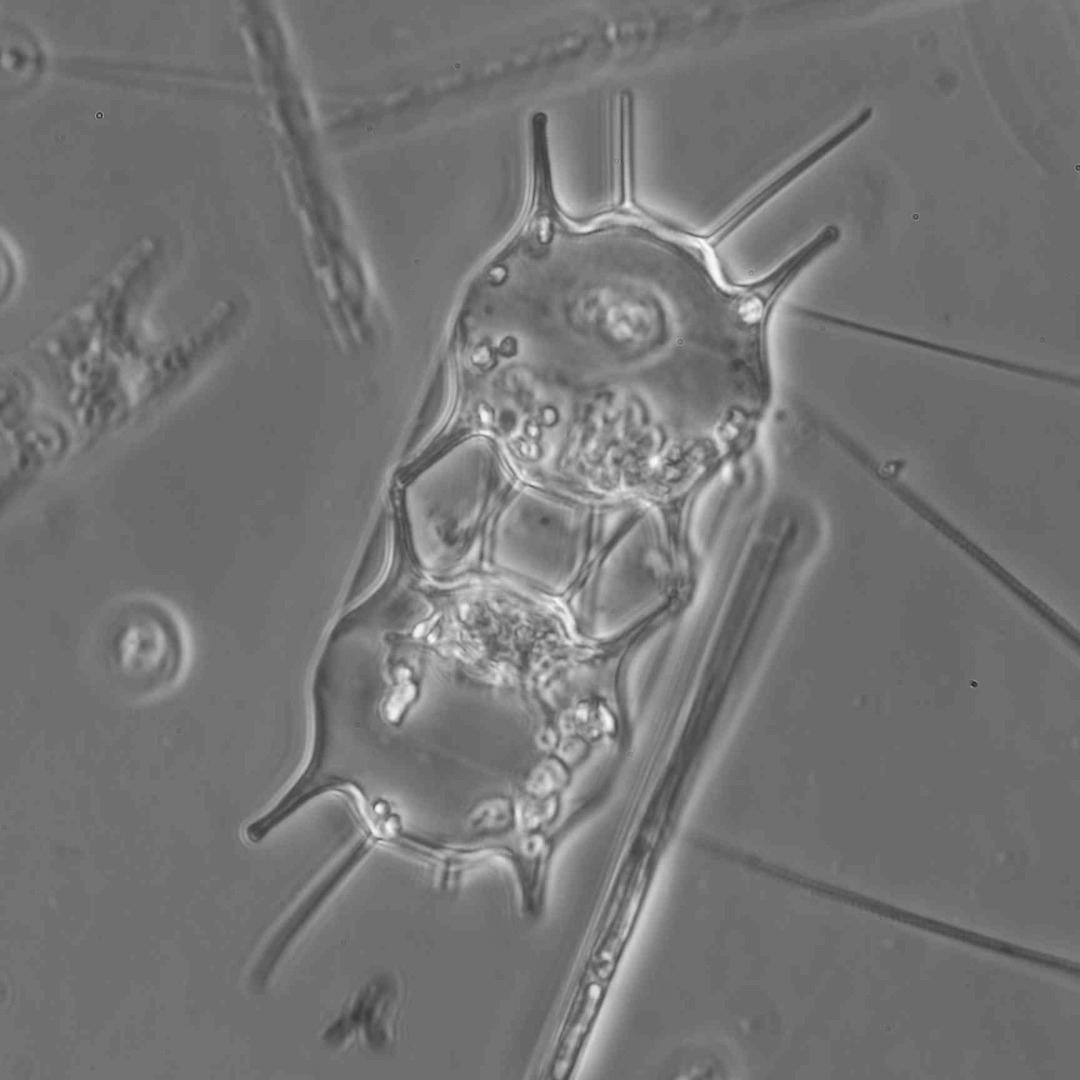odontella_mobiliensis: (398, 89, 869, 620), (245, 452, 682, 995)
